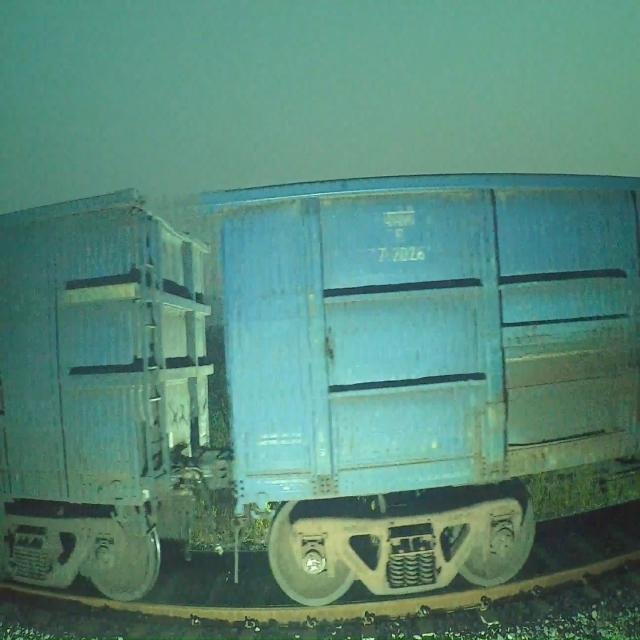WAgon-uic: (189, 165, 640, 612), (0, 182, 216, 606)
